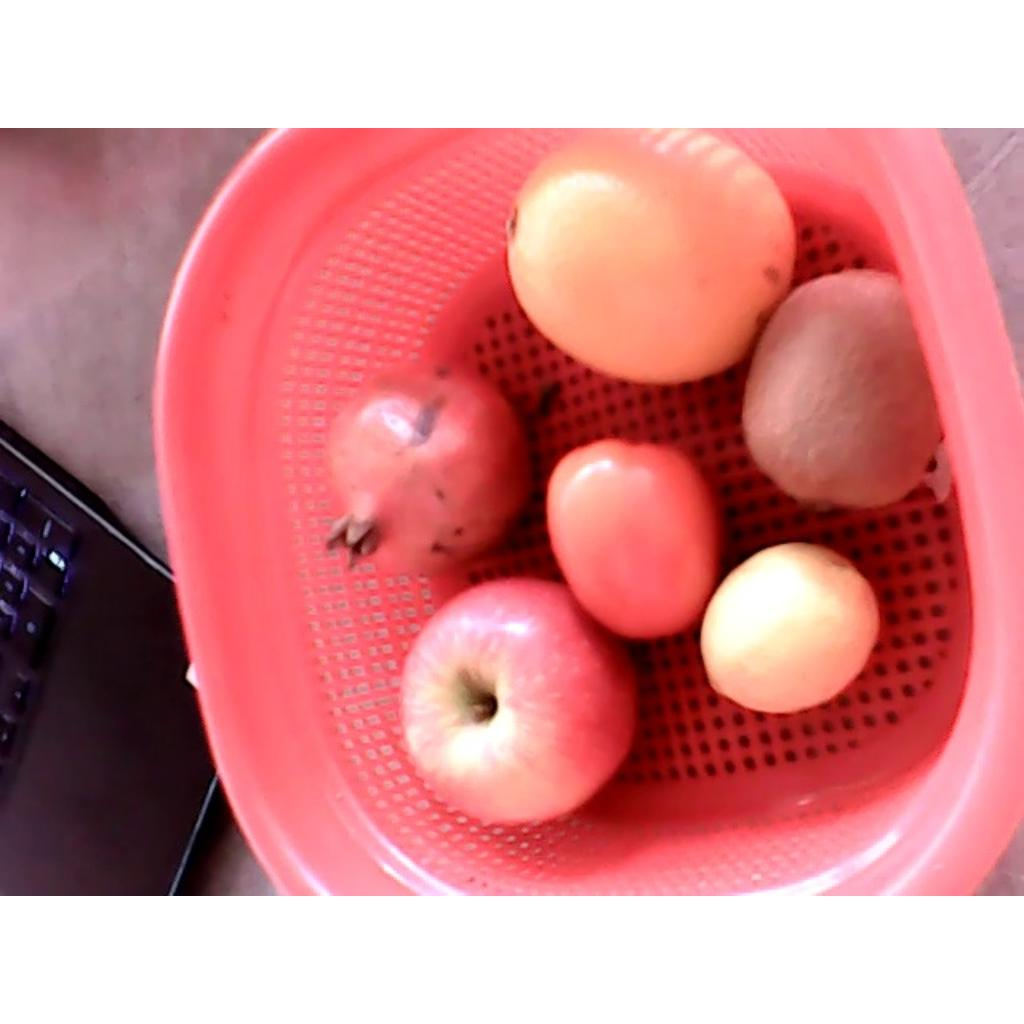apple: (399, 575, 638, 822)
kiwi: (741, 268, 943, 507)
lemon: (701, 543, 880, 713)
orange: (506, 129, 796, 388)
pomegranate: (327, 362, 532, 575)
tomato: (548, 440, 721, 641)
